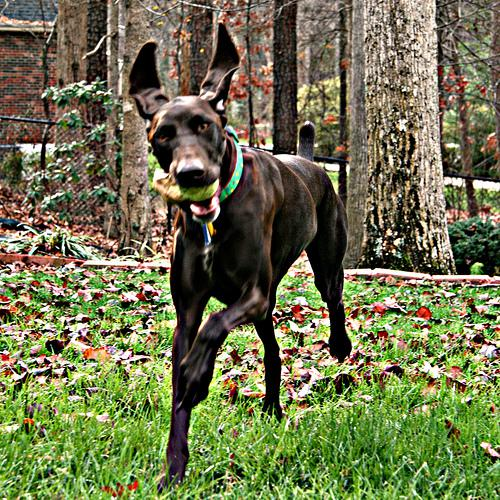dog-german_shorthaired: (127, 21, 239, 221)
